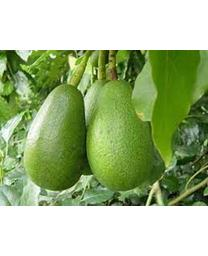avocado: (86, 79, 156, 192), (24, 84, 87, 192)
